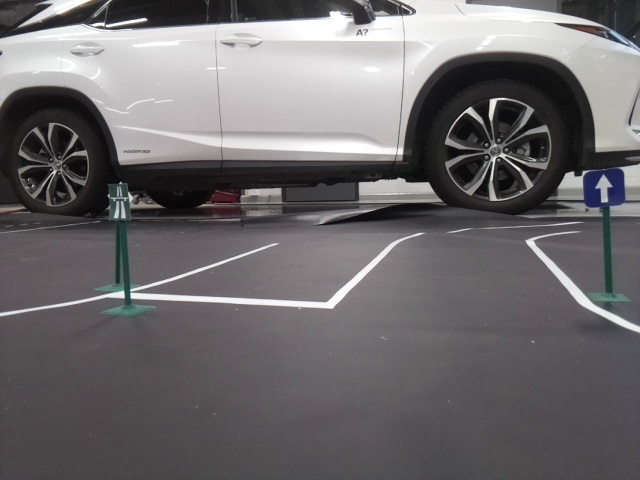OneWay: (583, 171, 625, 206)
